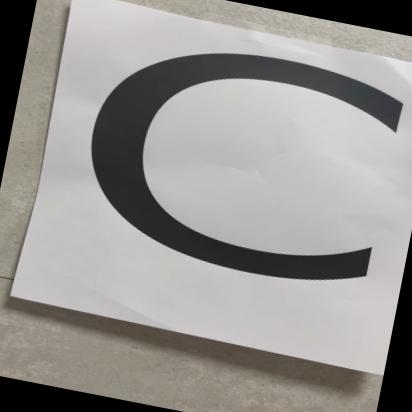seat: (19, 0, 412, 360)
